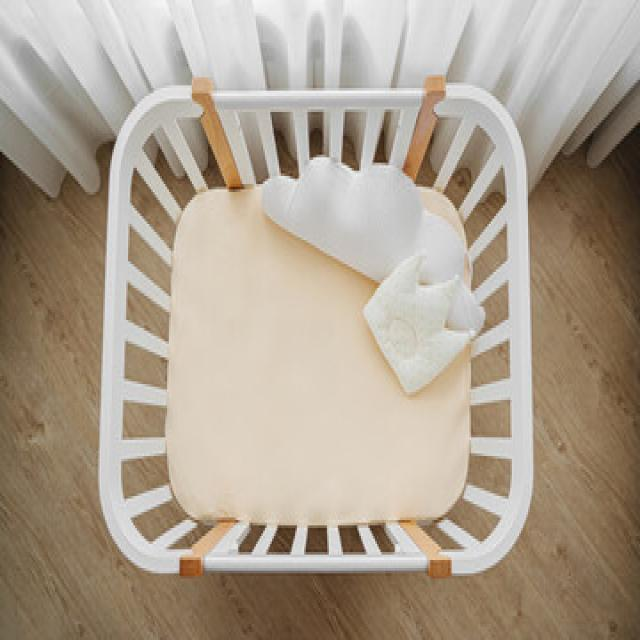crib: (96, 72, 535, 579)
